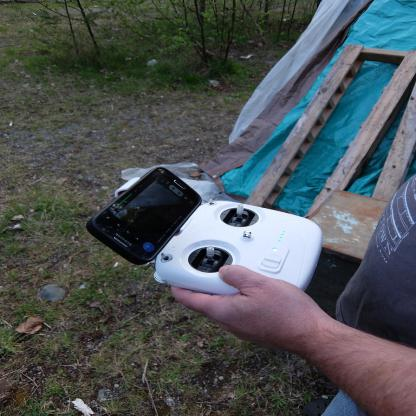Camera: (81, 167, 319, 303)
